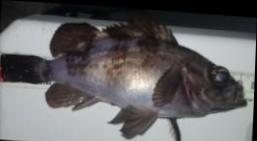fish: (3, 15, 247, 140)
